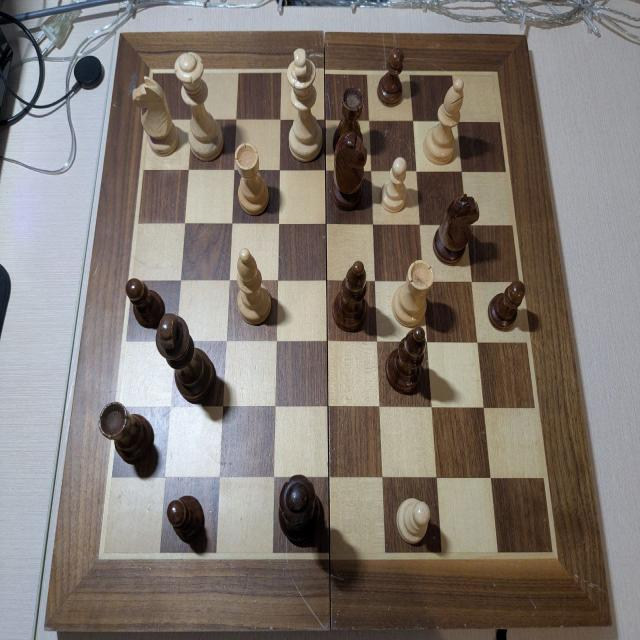black_bishop: (384, 325, 427, 394), (332, 259, 369, 333)
black_king: (157, 314, 216, 402)
black_knight: (433, 195, 479, 264), (331, 130, 365, 209)
black_pawn: (125, 277, 165, 329), (487, 279, 525, 331), (166, 495, 205, 543), (376, 47, 405, 106)
black_queen: (278, 474, 322, 544)
black_rook: (98, 400, 153, 464), (334, 86, 364, 154)
white_bishop: (423, 77, 465, 165), (236, 248, 272, 326)
white_king: (286, 46, 322, 162)
white_knight: (132, 76, 179, 158)
white_pawn: (395, 498, 430, 545), (380, 156, 408, 213)
white_queen: (174, 51, 223, 161)
white_rook: (391, 259, 434, 328), (234, 142, 270, 217)
